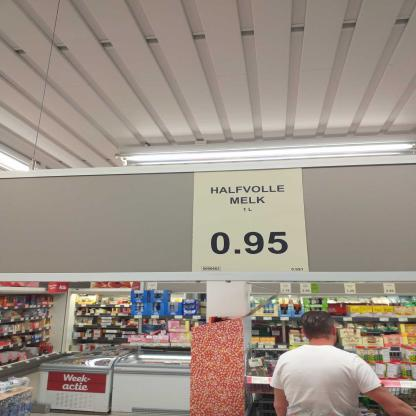prtg: (191, 170, 313, 274)
